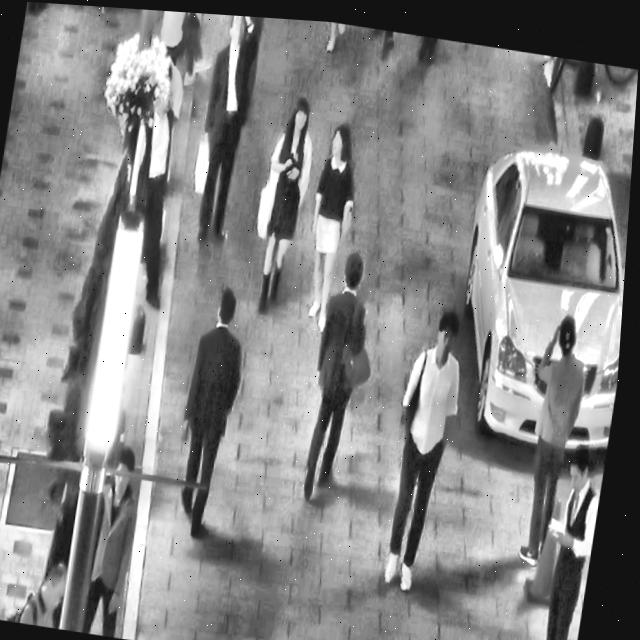light_vehicle: (438, 111, 635, 458)
